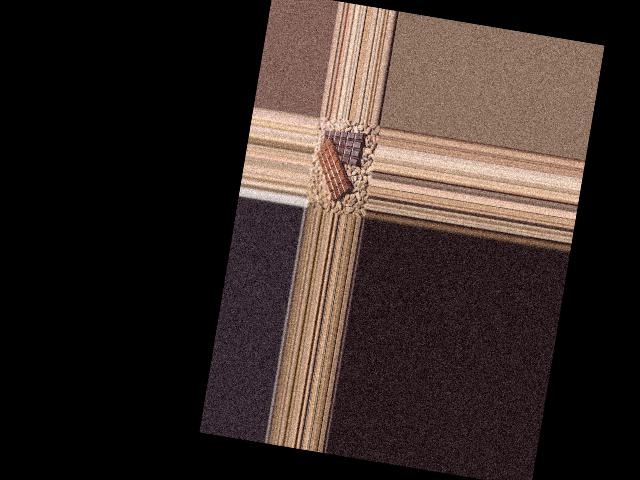chocolate: (317, 122, 368, 166)
